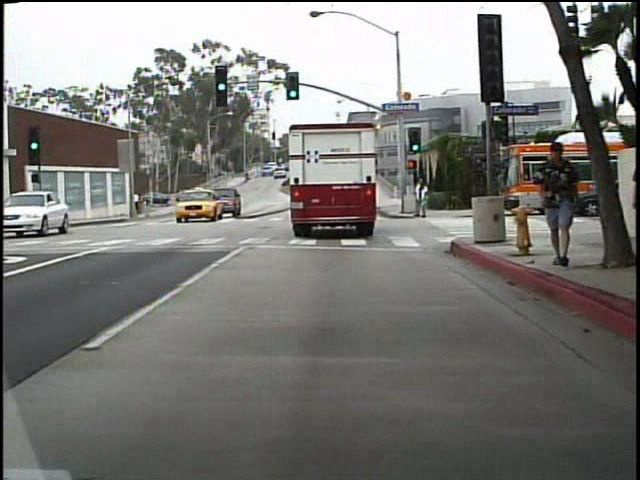person: (534, 133, 577, 276), (408, 177, 433, 222), (31, 189, 47, 230), (130, 187, 146, 220)
